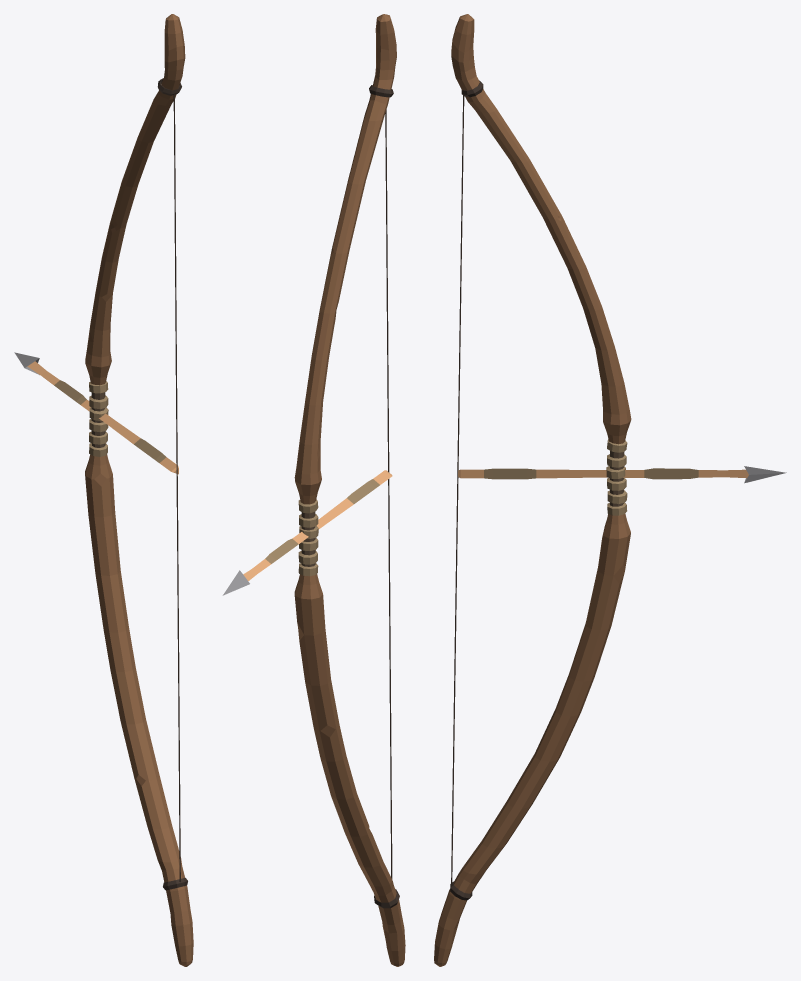
The model's file is Bow.fbx.
3 views of the same model, side by side, from view 1: azimuth 30°, elevation 25°; view 2: azimuth 150°, elevation 25°; view 3: azimuth 270°, elevation 25° (orthographic). The views are drawn at different scales.
Visible parts, largest first — view 1: Cylinder.001; view 2: Cylinder.001; view 3: Cylinder.001.
Boxes of the visible parts, x1,y1,x2,y2 form: Cylinder.001: (14,14,193,966); Cylinder.001: (222,14,405,966); Cylinder.001: (434,14,786,966).
Size of the model in its own units: 2.67 by 98.15 by 32.97.
